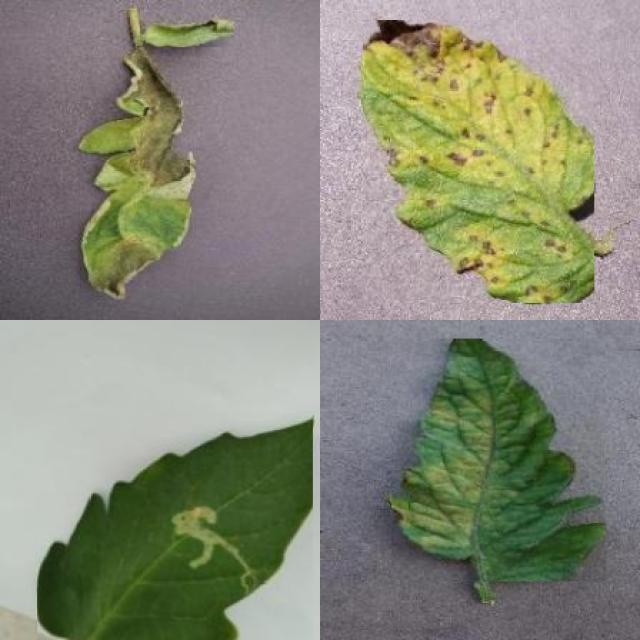Late Blight: (78, 46, 195, 300), (146, 12, 234, 47)
Leaf Miner: (37, 411, 313, 640)
Leaf Mold: (392, 338, 605, 582)
Septoria: (362, 20, 594, 303)
